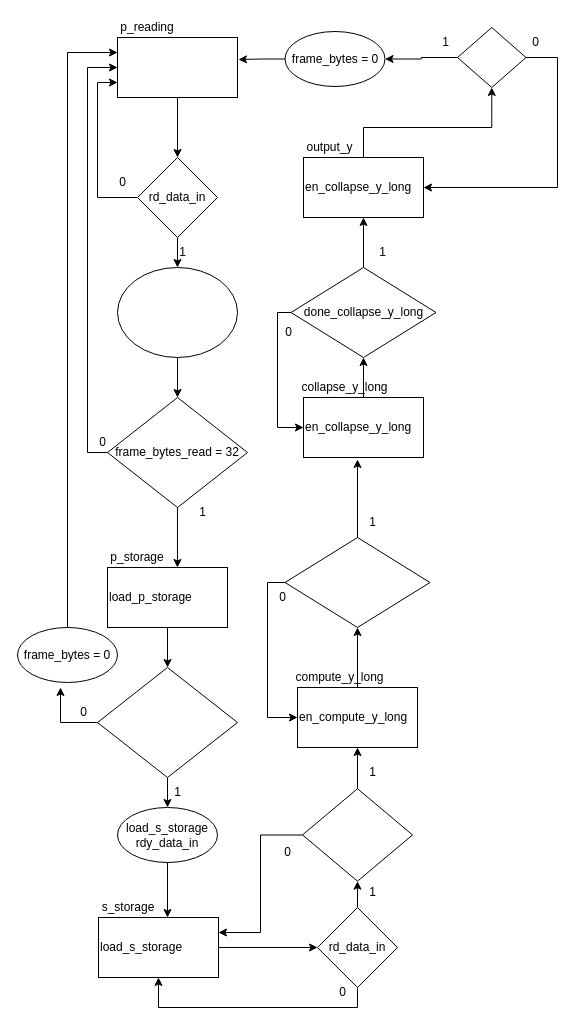
The diagram is 583 pixels wide and 1033 high, and some of its shapes have lost their labels. The shapes that lost their labels are listed below. From the top down, each one's centre as x and y in pixels, then its label:
At pixel 177 67: "rdy_data_in".
At pixel 491 57: "rd_y".
At pixel 177 312: "frame_bytes_read++ bytes_read++ load_p_storage".
At pixel 357 582: "done_compute_y_long".
At pixel 167 722: "done_p_storage".
At pixel 357 834: "done_s_storage".
